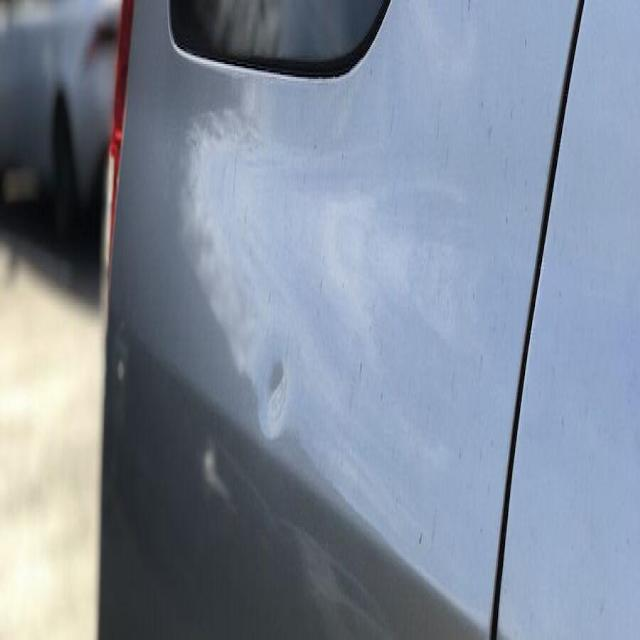dent: (258, 346, 294, 437)
